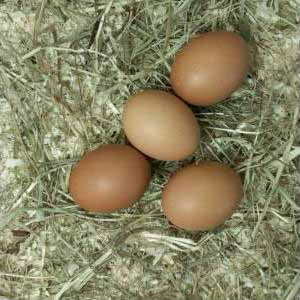egg: (170, 31, 250, 106), (159, 162, 244, 232), (122, 89, 201, 162), (69, 145, 151, 213)
